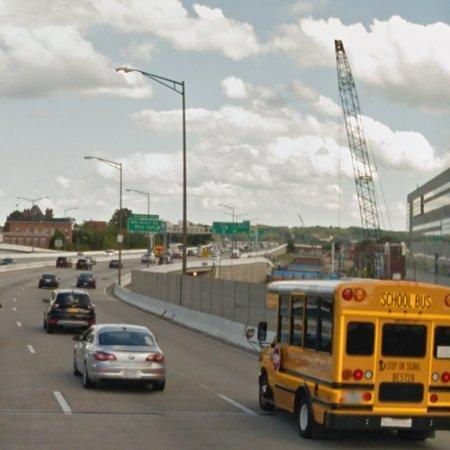buses: (257, 280, 450, 438)
